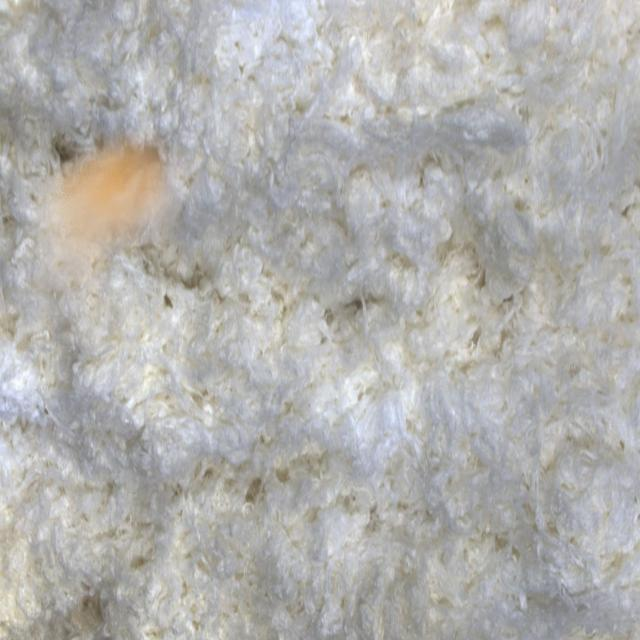dust: (19, 125, 204, 348)
